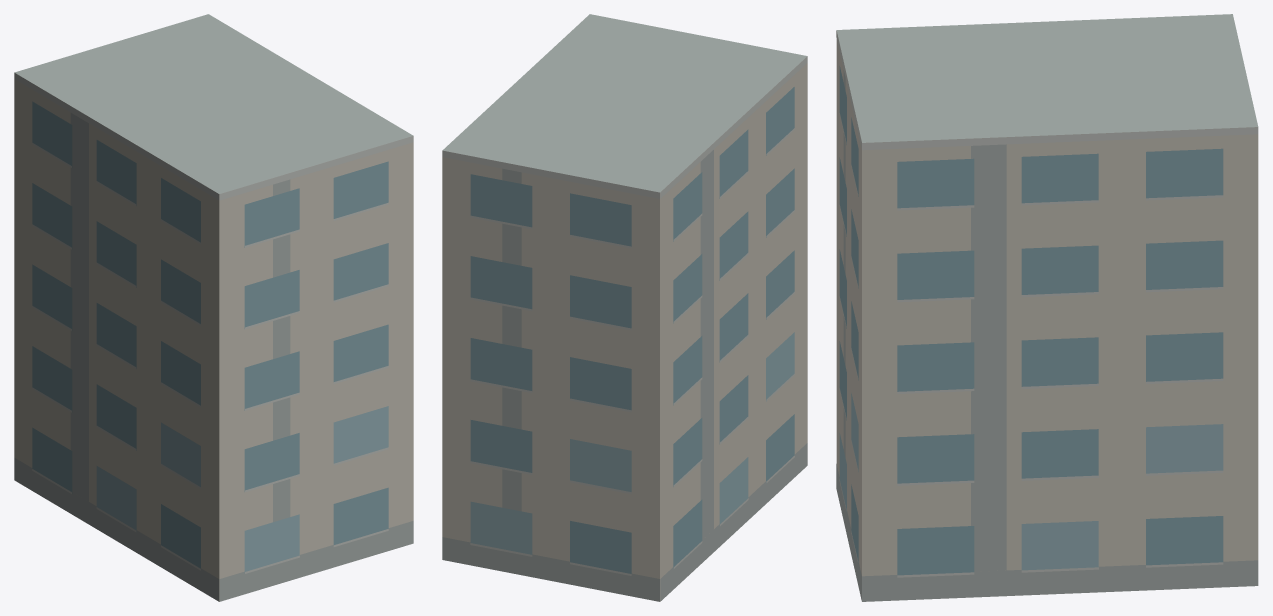
Rendered from residential-14b61b0f-74f0-4758-a51f-af8bf4f367d2.glb.
3 views of the same model, side by side, from view 1: azimuth 30°, elevation 25°; view 2: azimuth 150°, elevation 25°; view 3: azimuth 270°, elevation 25° (orthographic). The views are drawn at different scales.
Parts seen in each view (by area): view 1: residential-14b61b0f-74f0-4758-a51f-af8bf4f367d2.tmp; view 2: residential-14b61b0f-74f0-4758-a51f-af8bf4f367d2.tmp; view 3: residential-14b61b0f-74f0-4758-a51f-af8bf4f367d2.tmp.
Boxes of the visible parts, bbox=[...] form: residential-14b61b0f-74f0-4758-a51f-af8bf4f367d2.tmp: bbox=[14, 14, 413, 601]; residential-14b61b0f-74f0-4758-a51f-af8bf4f367d2.tmp: bbox=[442, 14, 807, 601]; residential-14b61b0f-74f0-4758-a51f-af8bf4f367d2.tmp: bbox=[836, 14, 1258, 601].
Size of the model in its own units: 9.2 by 15.25 by 12.71.
